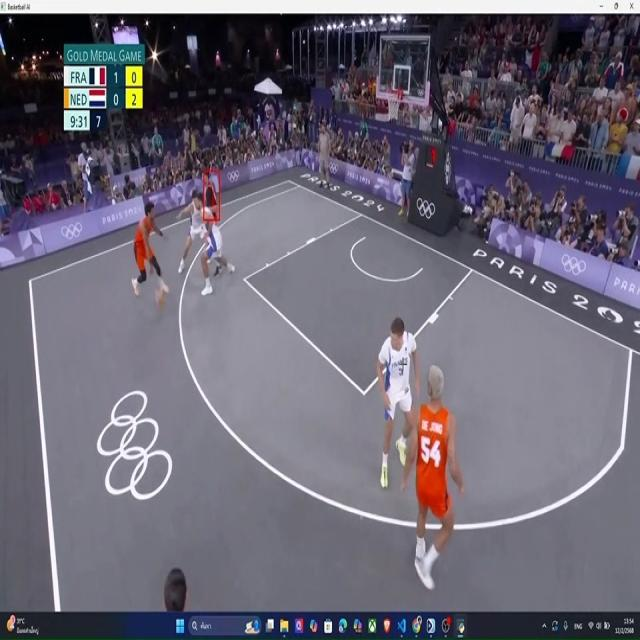hoop: (385, 83, 402, 123)
